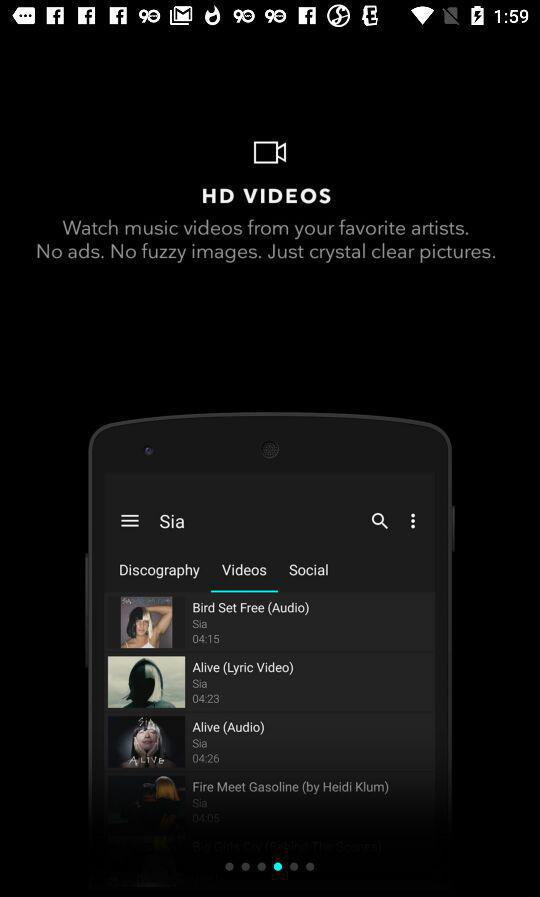Image: (86, 411, 455, 820), (254, 141, 287, 166)
PageIndicator: (225, 860, 316, 873)
Text: (37, 219, 496, 265), (203, 188, 331, 205)
UpperTaskBar: (1, 1, 540, 29)
